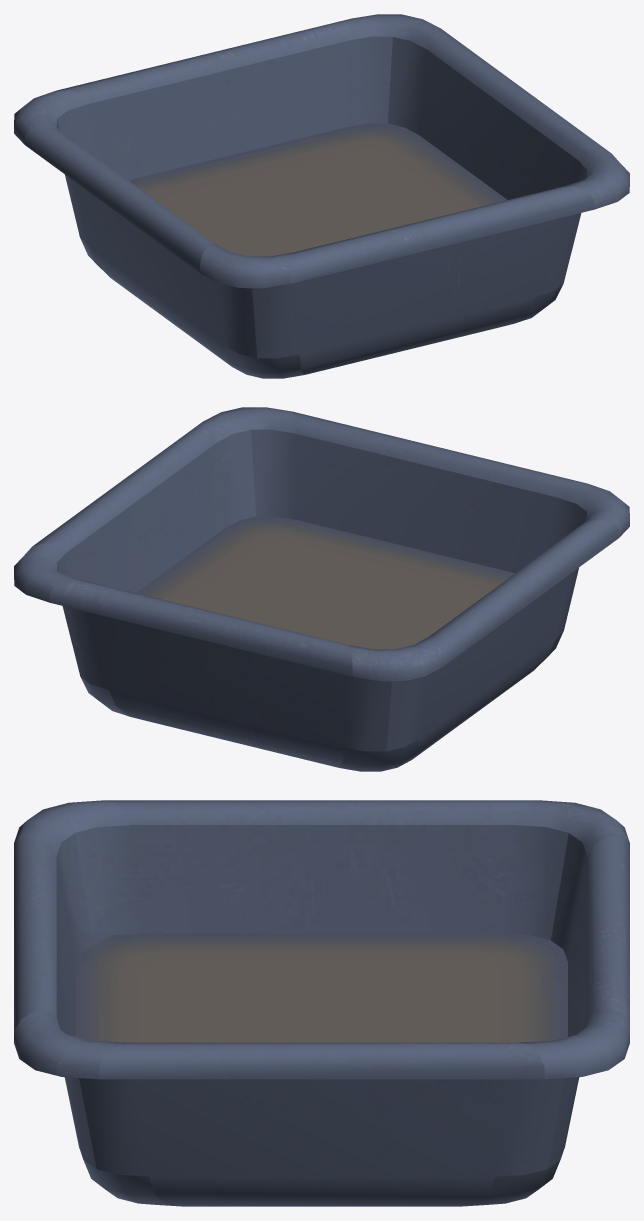
Rendered from Basin2_SM.fbx.
3 renders of one model, top to bottom at view 1: azimuth 30°, elevation 25°; view 2: azimuth 150°, elevation 25°; view 3: azimuth 270°, elevation 25°, orthographic. The views are drawn at different scales.
Visible parts, largest first — view 1: Basin2_SM; view 2: Basin2_SM; view 3: Basin2_SM.
Boxes of the visible parts, bbox=[...] form: Basin2_SM: bbox=[14, 14, 629, 378]; Basin2_SM: bbox=[14, 407, 629, 771]; Basin2_SM: bbox=[14, 800, 629, 1206].
Size of the model in its own units: 39.64 by 14.26 by 39.64.
